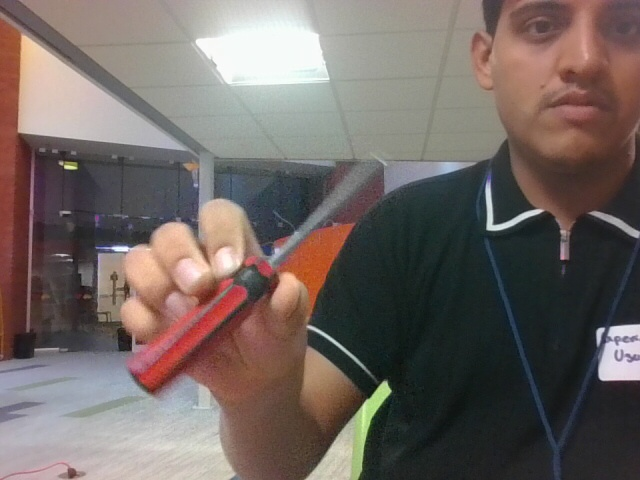destornillador: (129, 157, 388, 394)
